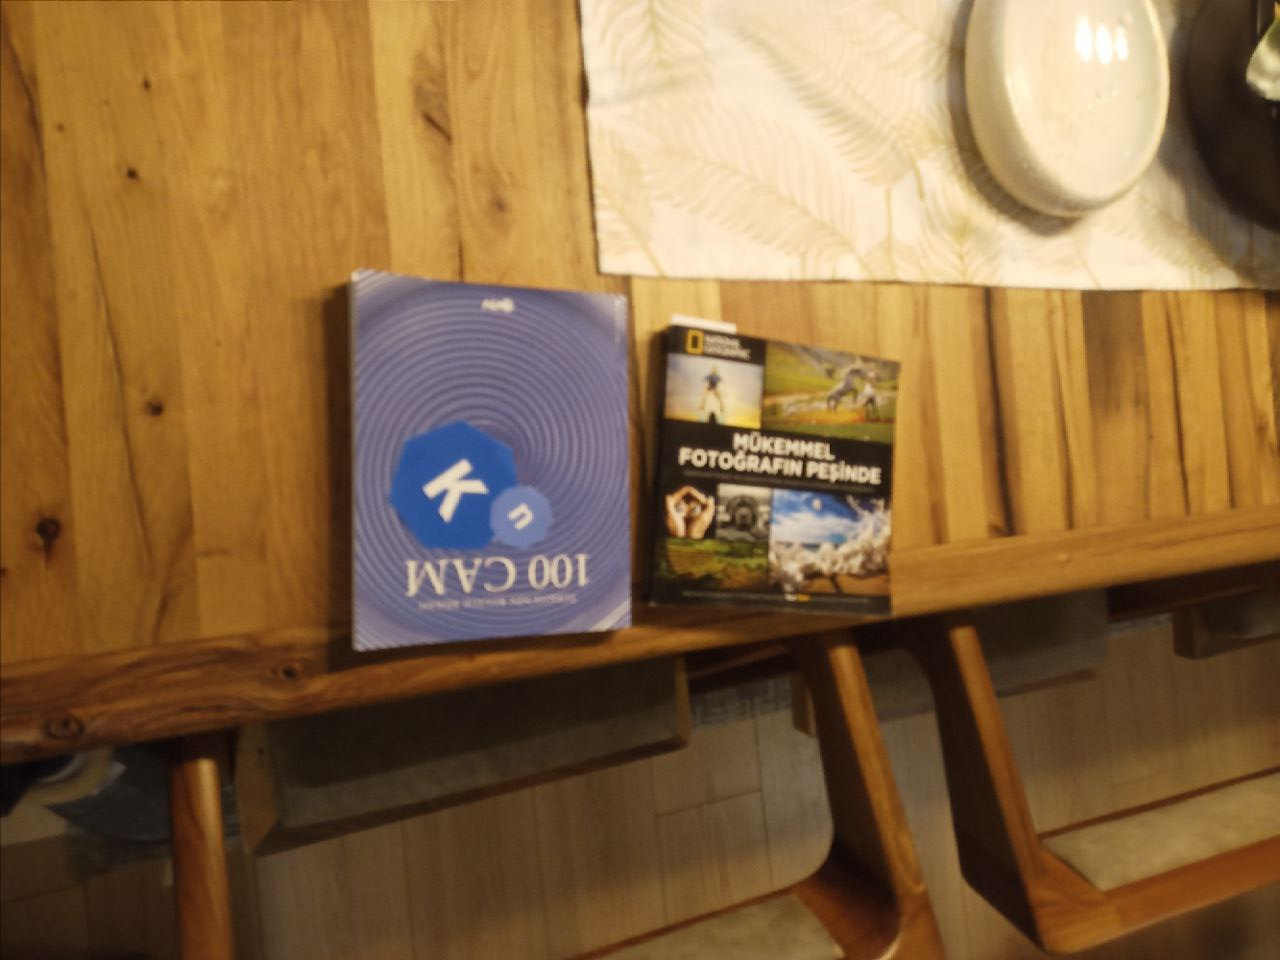knative: (386, 422, 553, 551)
